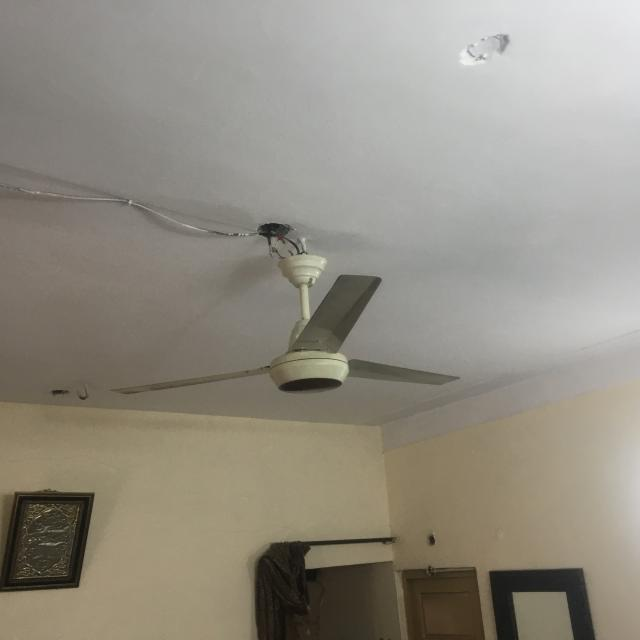off: (100, 272, 470, 403)
